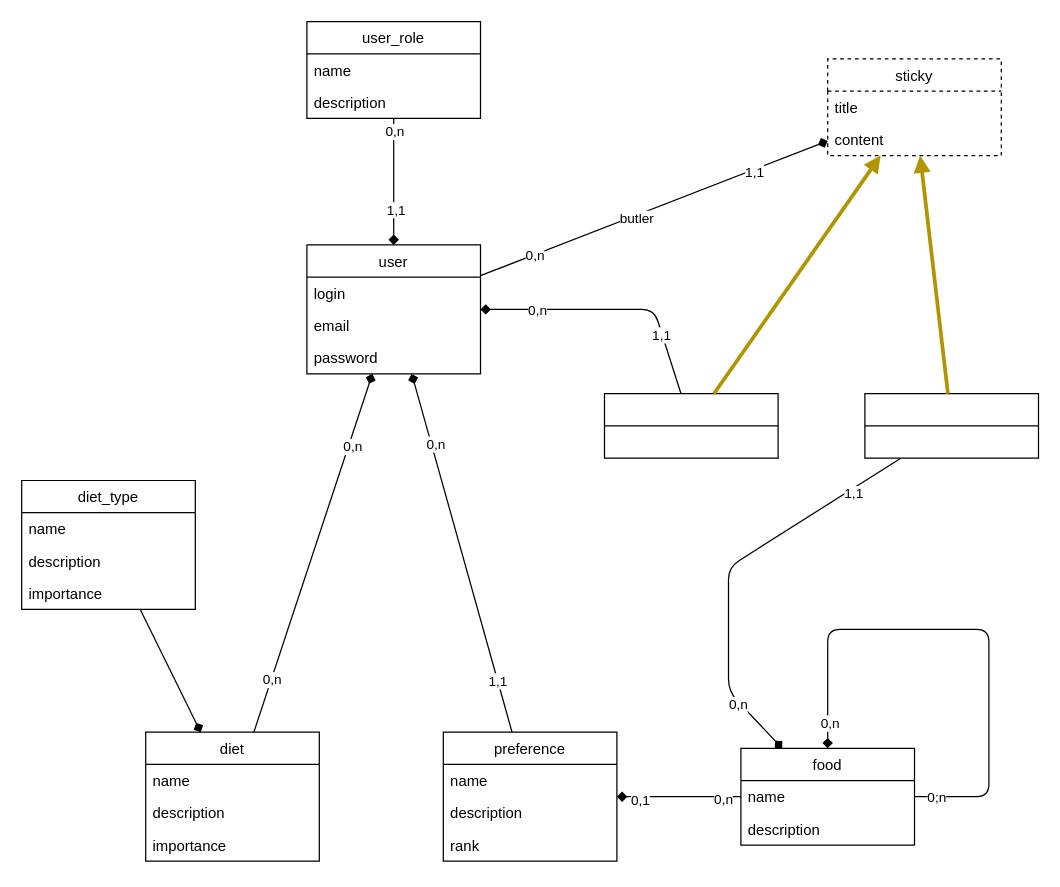
Some shapes in this 1060 by 887 pixel diagram are drawn without their labels. The centre of each missing label's shape, as x and y in pixels:
"food_sticky" goes at point (951, 425).
"user_sticky" goes at point (690, 425).
